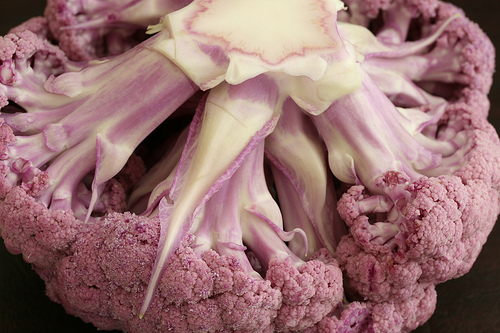cauliflower: (1, 1, 499, 332)
